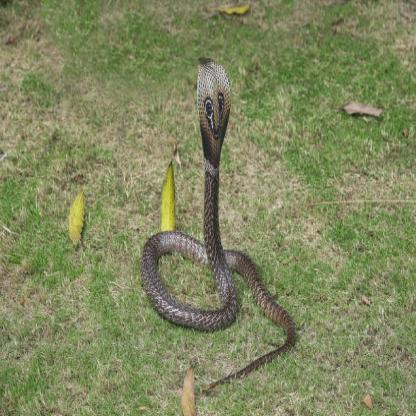Snake: (135, 54, 297, 389)
